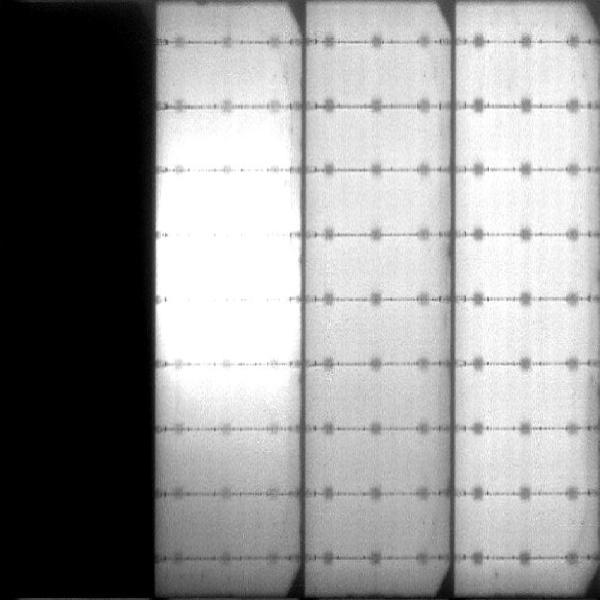hot_spot: (157, 304, 296, 357), (161, 242, 292, 295), (158, 177, 294, 228), (170, 135, 286, 163), (164, 370, 290, 395)
no_electricity: (1, 1, 154, 597)
